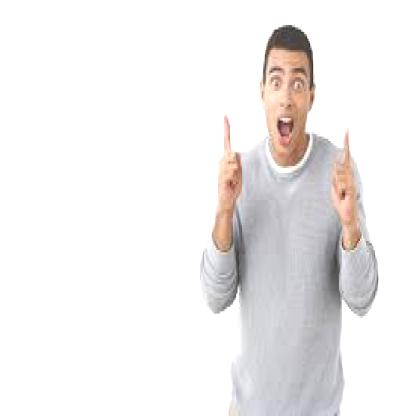Up: (215, 112, 243, 230), (330, 122, 360, 212)
